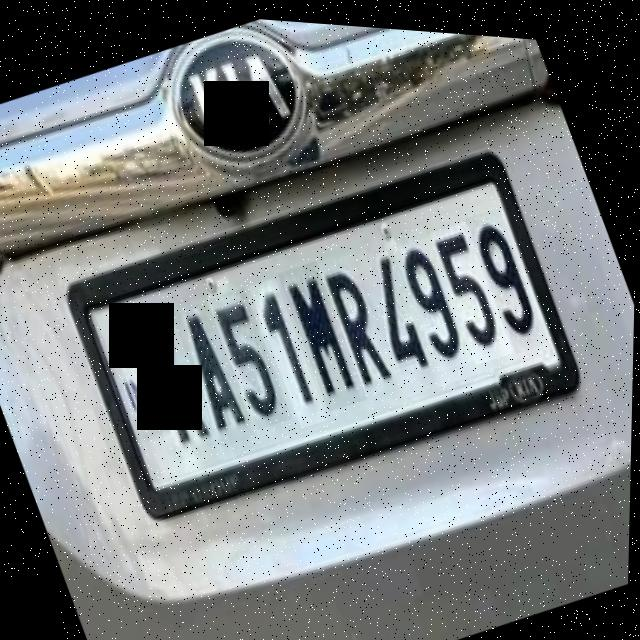1: (247, 271, 332, 425)
4: (354, 235, 440, 378)
5: (426, 212, 517, 359), (207, 281, 296, 427)
9: (464, 198, 552, 347), (391, 228, 477, 367)
A: (169, 295, 262, 447)
K: (132, 310, 222, 451)
M: (276, 253, 372, 410)
R: (315, 244, 404, 392)
